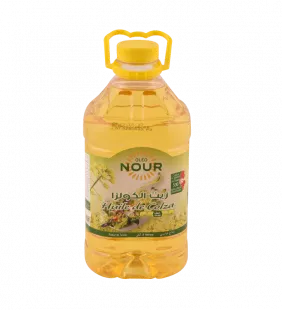Promotion: (76, 20, 197, 284)
